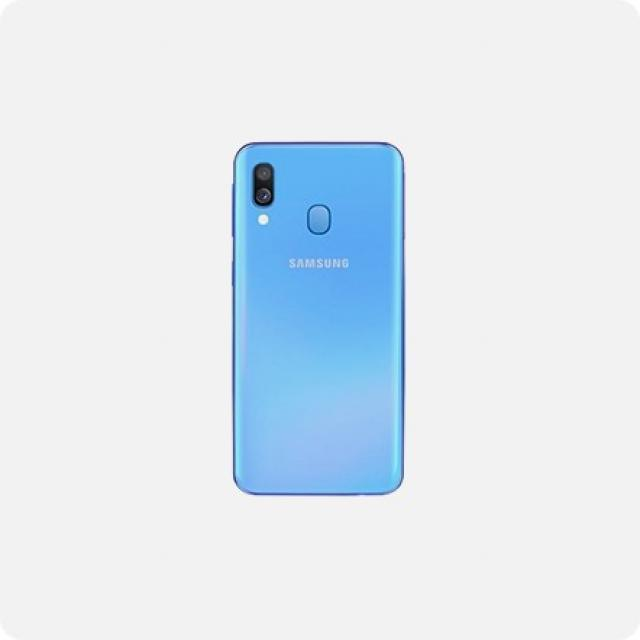phone: (224, 131, 410, 501)
